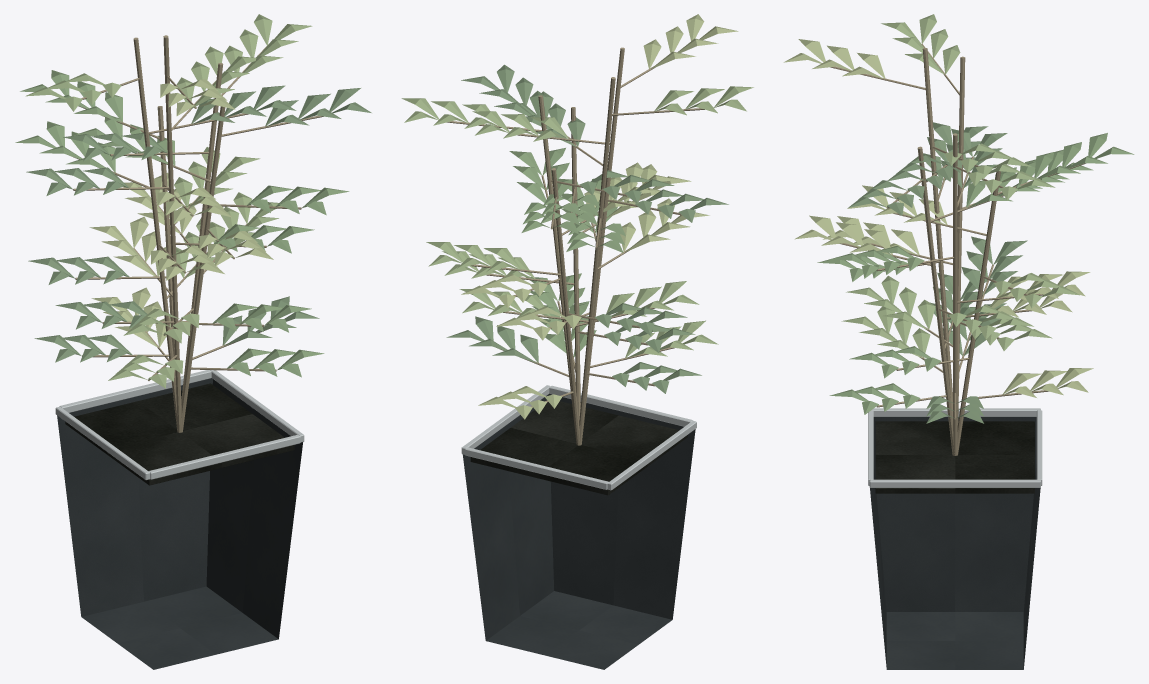
Rendered from Planter.glb.
3 views of the same model, side by side, from view 1: azimuth 30°, elevation 25°; view 2: azimuth 150°, elevation 25°; view 3: azimuth 270°, elevation 25° (orthographic). The views are drawn at different scales.
Parts seen in each view (by area): view 1: Planter__Powdercoat__mesh, Planter__Soil__mesh, Planter__Foliage0__mesh, Planter__BranchBark__mesh, Planter__Foliage1__mesh, Planter__Foliage3__mesh, Planter__Foliage2__mesh, Planter__BrushedHardware__mesh; view 2: Planter__Powdercoat__mesh, Planter__Soil__mesh, Planter__BranchBark__mesh, Planter__Foliage1__mesh, Planter__Foliage0__mesh, Planter__Foliage2__mesh, Planter__Foliage3__mesh, Planter__BrushedHardware__mesh; view 3: Planter__Powdercoat__mesh, Planter__Soil__mesh, Planter__BranchBark__mesh, Planter__Foliage1__mesh, Planter__Foliage2__mesh, Planter__Foliage0__mesh, Planter__Foliage3__mesh, Planter__BrushedHardware__mesh.
Boxes of the visible parts, x1=… form: Planter__Powdercoat__mesh: x1=57, y1=378, x2=302, y2=669; Planter__Soil__mesh: x1=65, y1=383, x2=294, y2=485; Planter__Foliage0__mesh: x1=26, y1=85, x2=371, y2=362; Planter__BranchBark__mesh: x1=73, y1=35, x2=323, y2=432; Planter__Foliage1__mesh: x1=25, y1=14, x2=312, y2=388; Planter__Foliage3__mesh: x1=15, y1=70, x2=349, y2=377; Planter__Foliage2__mesh: x1=89, y1=79, x2=273, y2=347; Planter__BrushedHardware__mesh: x1=55, y1=370, x2=304, y2=480; Planter__Powdercoat__mesh: x1=462, y1=393, x2=695, y2=669; Planter__Soil__mesh: x1=470, y1=401, x2=687, y2=495; Planter__BranchBark__mesh: x1=447, y1=47, x2=704, y2=445; Planter__Foliage1__mesh: x1=401, y1=86, x2=753, y2=358; Planter__Foliage0__mesh: x1=446, y1=64, x2=728, y2=393; Planter__Foliage2__mesh: x1=461, y1=14, x2=738, y2=419; Planter__Foliage3__mesh: x1=509, y1=148, x2=625, y2=357; Planter__BrushedHardware__mesh: x1=461, y1=385, x2=696, y2=490; Planter__Powdercoat__mesh: x1=870, y1=417, x2=1040, y2=669; Planter__Soil__mesh: x1=875, y1=421, x2=1034, y2=493; Planter__BranchBark__mesh: x1=830, y1=43, x2=1085, y2=455; Planter__Foliage1__mesh: x1=841, y1=14, x2=1079, y2=358; Planter__Foliage2__mesh: x1=783, y1=39, x2=1093, y2=397; Planter__Foliage0__mesh: x1=848, y1=122, x2=1027, y2=423; Planter__Foliage3__mesh: x1=817, y1=133, x2=1134, y2=414; Planter__BrushedHardware__mesh: x1=868, y1=408, x2=1042, y2=487.
Size of the model in its own units: 1.04 by 1.86 by 1.03.
8 materials, 2 textured.
